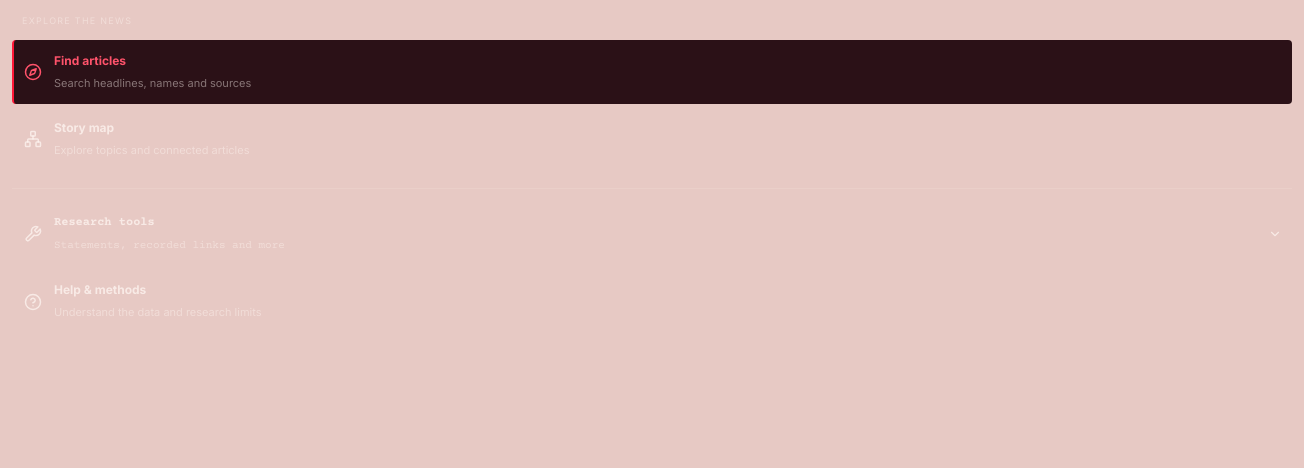
Test: viewer-only access › keeps browsing and graphs while removing write destinations from the shared navigation
Expected: the link "Find articles" is shown, [12, 40, 1292, 104]
Expected: the link "Story map" is shown, [24, 120, 250, 157]
Click the button "Research tools". click: {"x": 104, "y": 222}
box: [12, 202, 1292, 266]
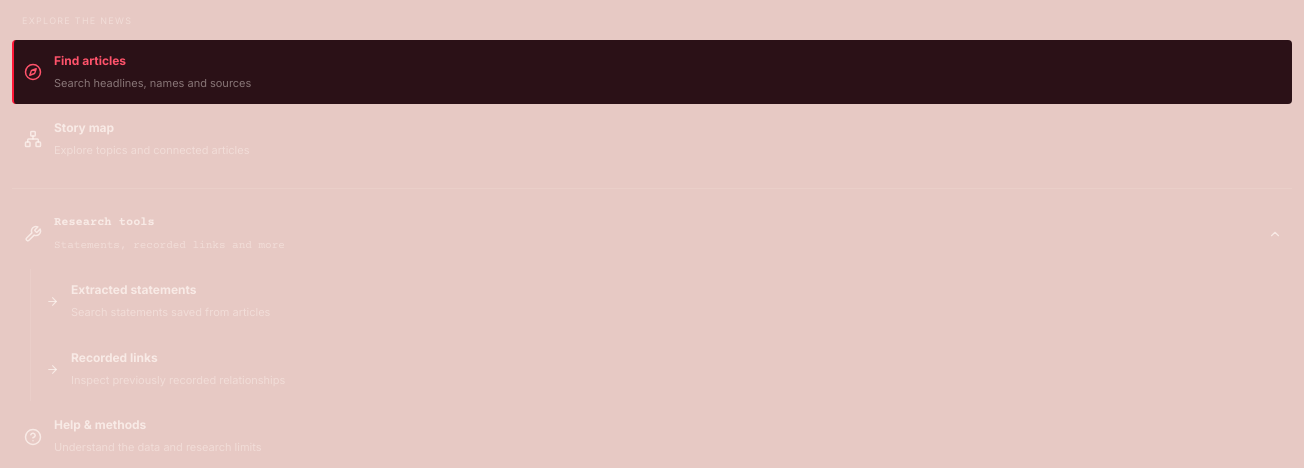
Expected: the link "Recorded links" is shown, [46, 350, 285, 387]
Expected: the link "Extracted statements" is shown, [46, 282, 270, 319]
